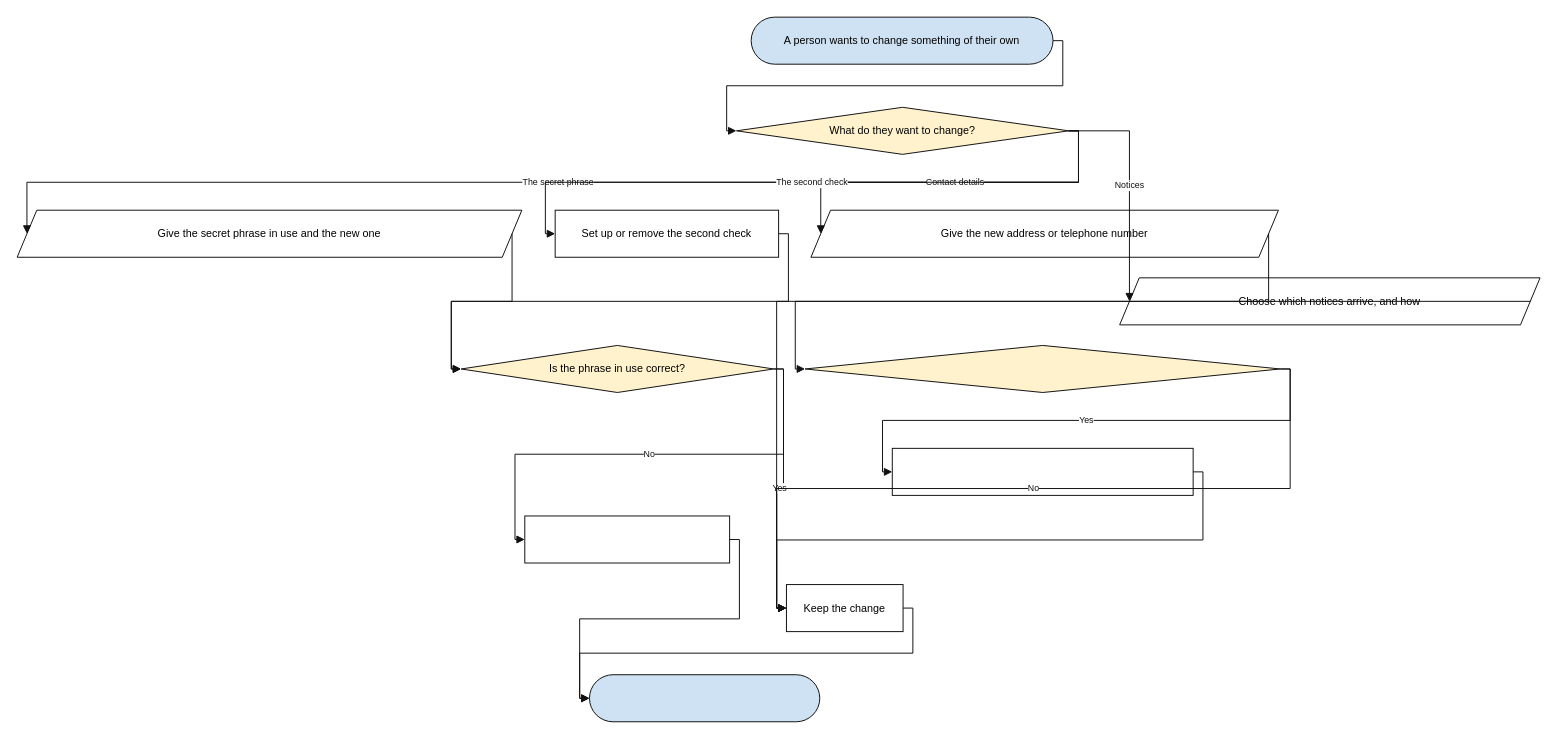
This 1557x739 diagram has some shape labels left out. The shapes that lost their labels are listed below. From the top down, each one's box as (x1, y1, x2, y2) in pixels, then its label:
(804, 344, 1280, 392): Does the new address have to be confirmed?
(891, 447, 1193, 495): Send a message to the new address to confirm it
(524, 515, 730, 563): Refuse the change and say why
(588, 674, 820, 722): The account shows what they chose
